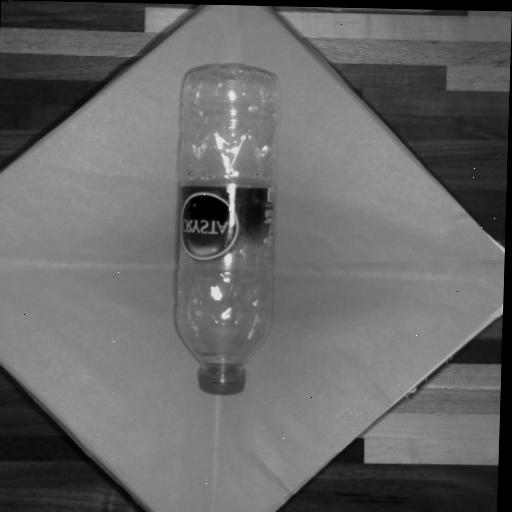bottle: (154, 53, 291, 412)
